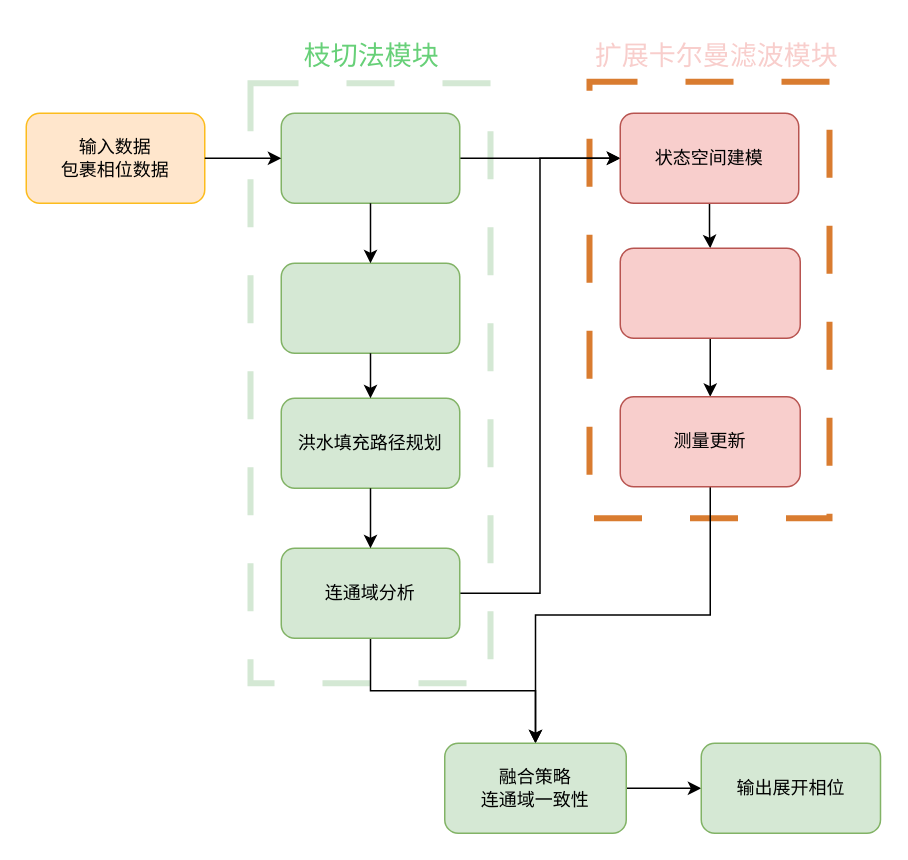
Image size: 908x860. Some labels were removed from this diagram. Here are the shapes that lost their labels. From the top down, the centre of each, then its label:
point (370, 157): 残差点检测
point (370, 307): 枝切线放置
point (709, 292): 状态预测
